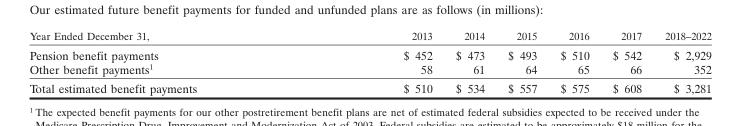table: (28, 29, 710, 95)
table column: (28, 29, 299, 95), (299, 29, 443, 95), (652, 29, 710, 95), (495, 29, 548, 95), (443, 29, 495, 95), (548, 29, 600, 95), (600, 29, 652, 95)
table column header: (28, 29, 710, 44)
table row: (28, 44, 710, 61), (28, 61, 710, 78), (28, 78, 710, 95), (28, 29, 710, 44)
